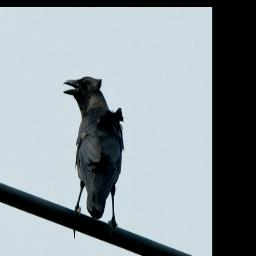Crow: (63, 71, 124, 241)
